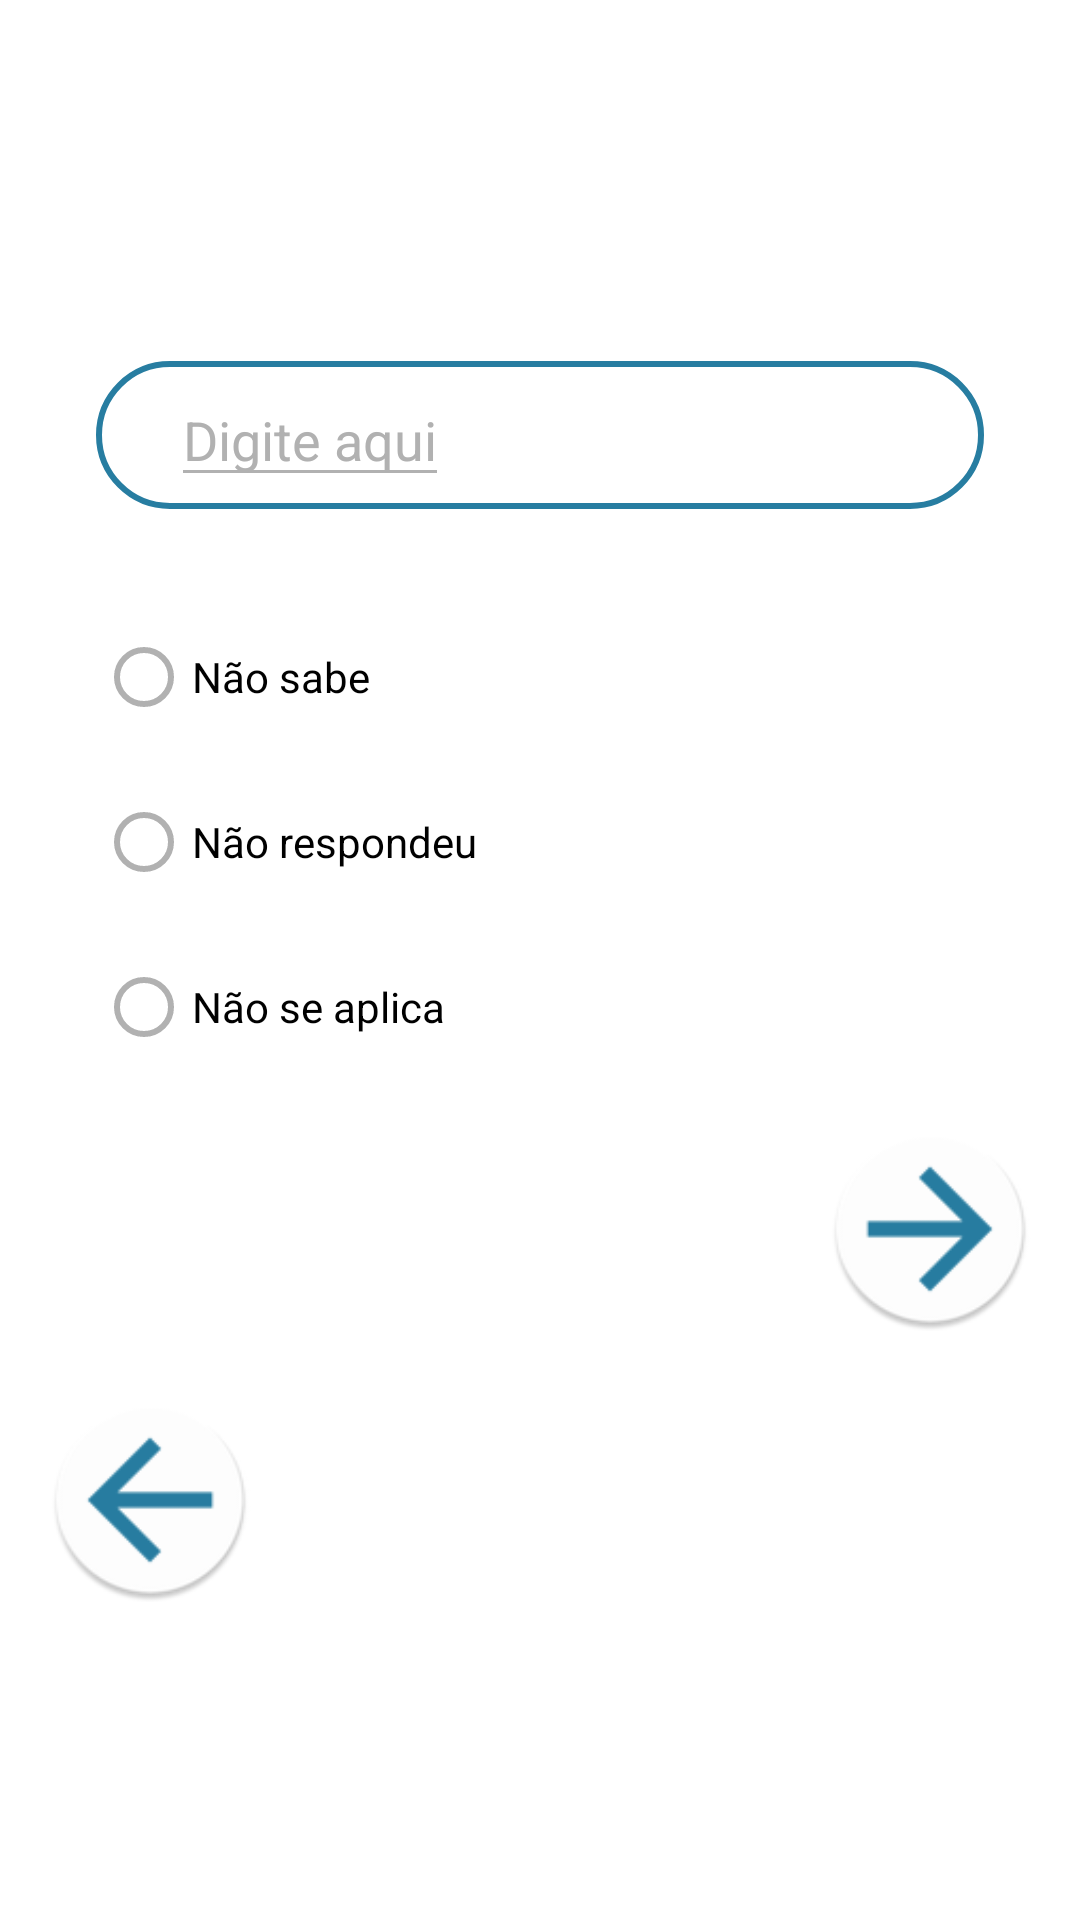

Icons on this 1080 × 1920 Android screen, each with its box as (x1, y1, x2, y2):
back arrow: (59, 1437, 245, 1598)
next arrow: (839, 1166, 1025, 1327)
